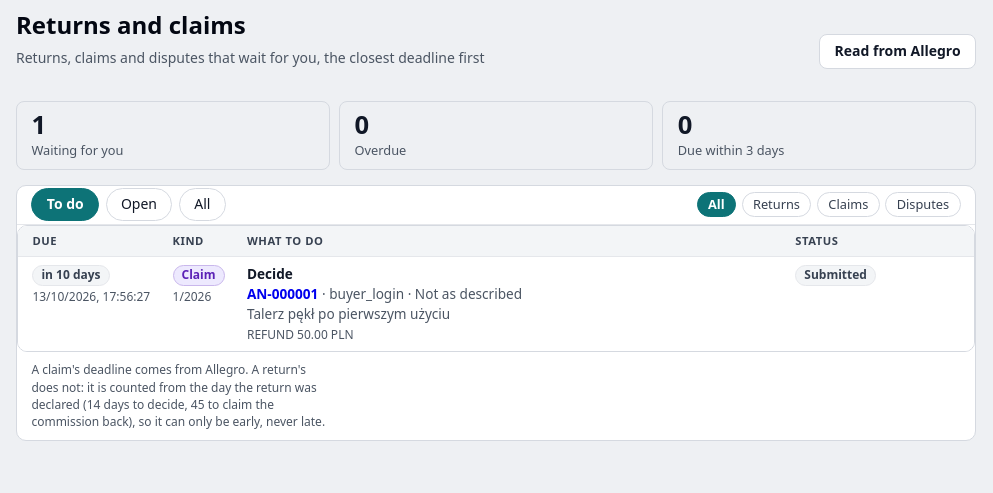
AfterSalesPage › reads from Allegro on the button, reports what it read and reloads
This screenshot has width=993, height=493.
Expected: the link "AN-000001" is shown, 247,284 -> 318,303
What coordinates should you click on to do the following:
click the button "Read from Allegro"
I would click on:
 (898, 51)
Its box is 819,34 -> 976,69.
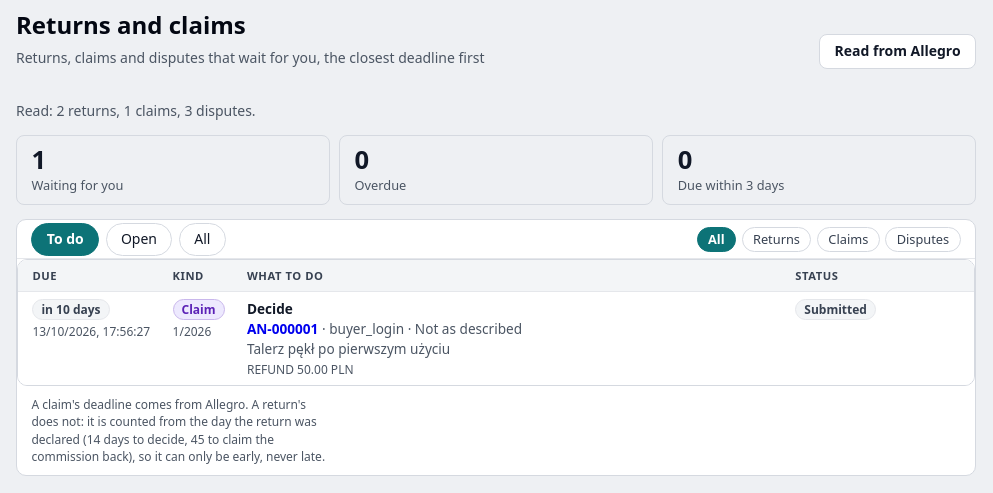
Expected: the text "Read: 2 returns, 1 claims, 3 disputes." is shown, 16,101 -> 256,120
